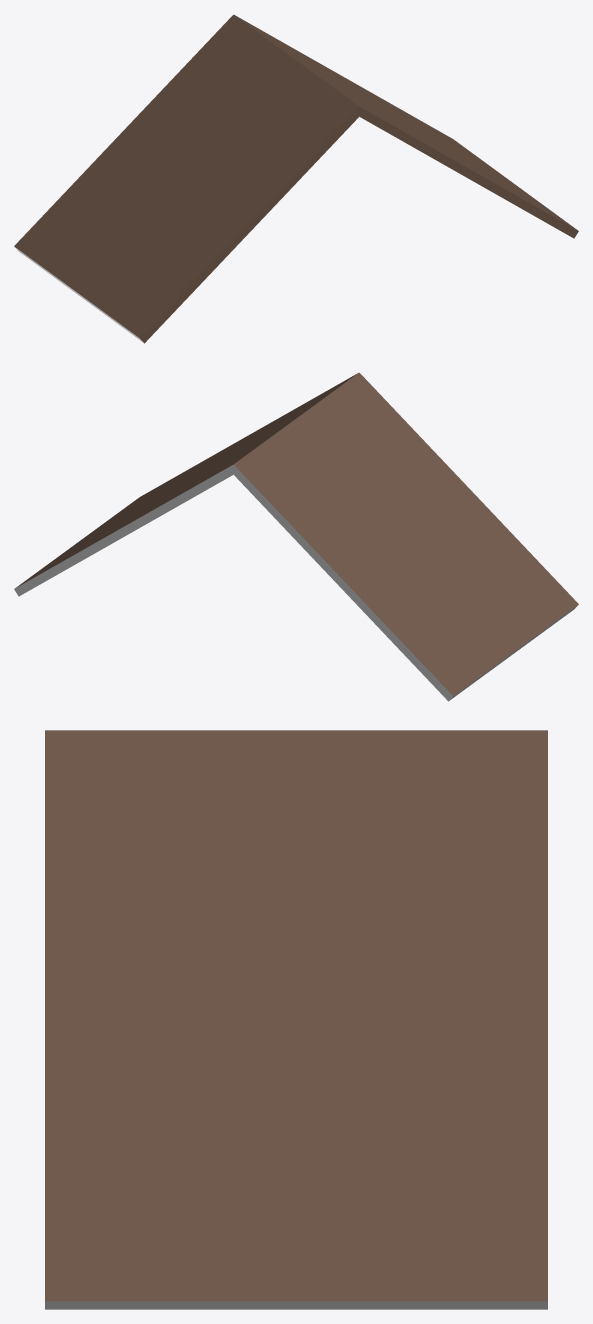
The model's file is Roof1_C2_03.fbx.
The picture shows the model from 3 angles, top to bottom: view 1: azimuth 30°, elevation 25°; view 2: azimuth 150°, elevation 25°; view 3: azimuth 270°, elevation 25°; orthographic projection. The views are drawn at different scales.
Parts seen in each view (by area): view 1: Roof1_C2_03; view 2: Roof1_C2_03; view 3: Roof1_C2_03.
Boxes of the visible parts, x1=… form: Roof1_C2_03: x1=14, y1=14, x2=578, y2=343; Roof1_C2_03: x1=14, y1=372, x2=578, y2=701; Roof1_C2_03: x1=45, y1=730, x2=547, y2=1309.
Bounding box in the file's own units: 565 × 227 × 280.
